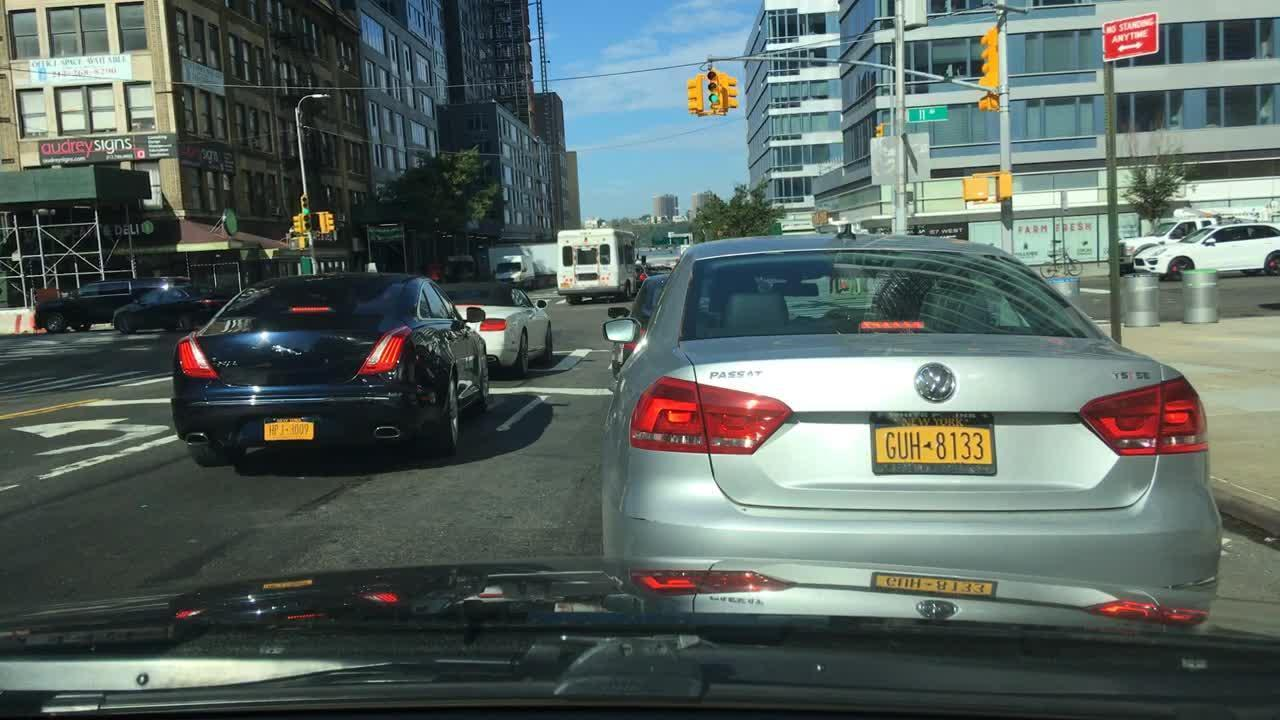Volkswagen: (903, 359, 978, 409)
no class: (270, 337, 308, 365)
